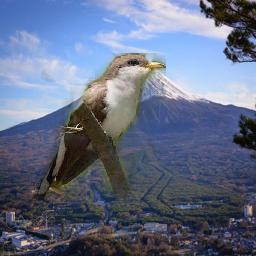Cuckoo: (32, 54, 166, 201)
